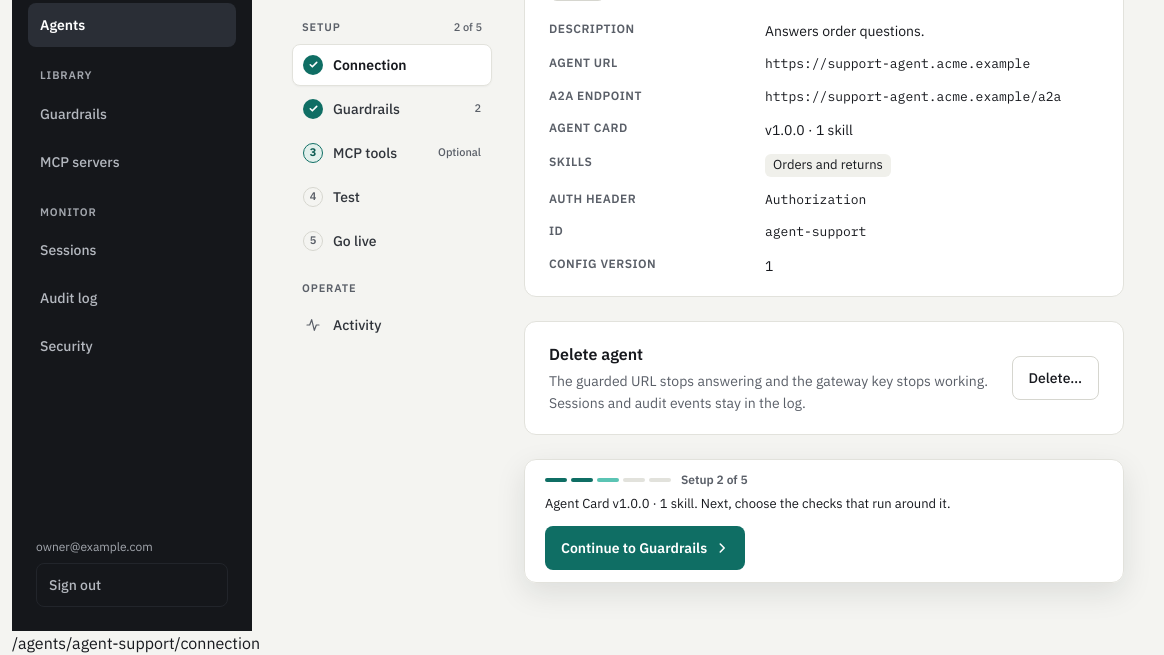
Test: Delete agent › keeps confirmation open when focus moves and provides an explicit cancel
This screenshot has width=1164, height=655.
(page scrolled)
Click the button "Delete…" at (1055, 378), box [1012,356,1099,400]
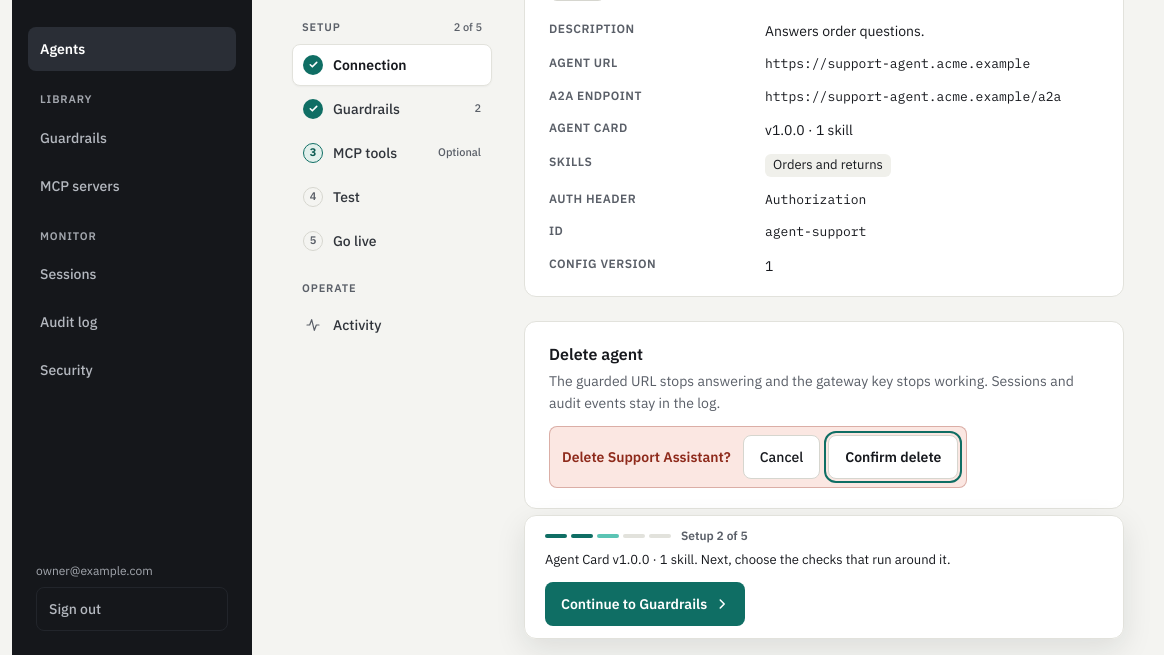
Press Tab
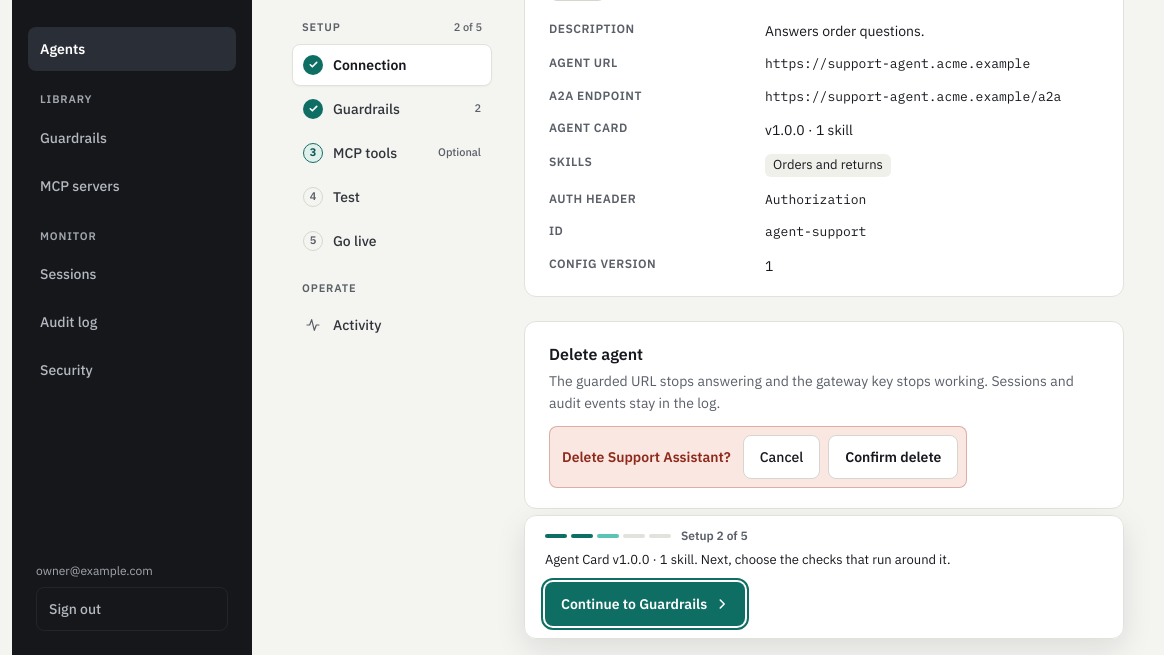
Now the button "Confirm delete" is shown, box [828,435,958,479]
Click the button "Cancel" at (781, 457), box [743,435,820,479]
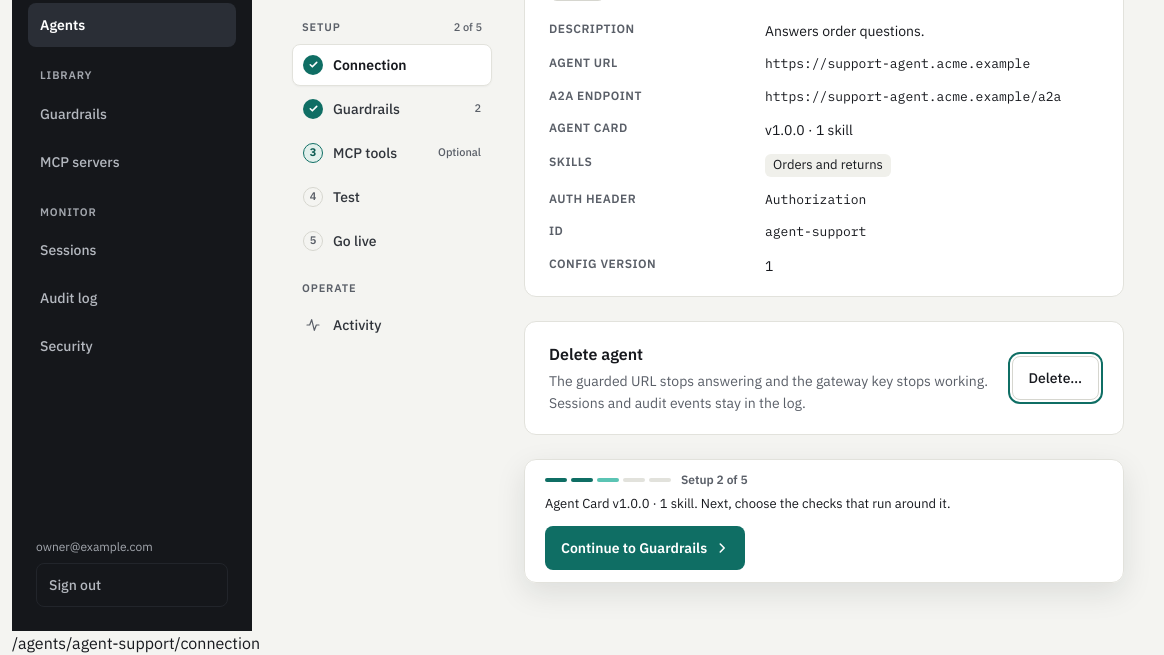
Now the button "Delete…" is shown, box [1012,356,1099,400]
